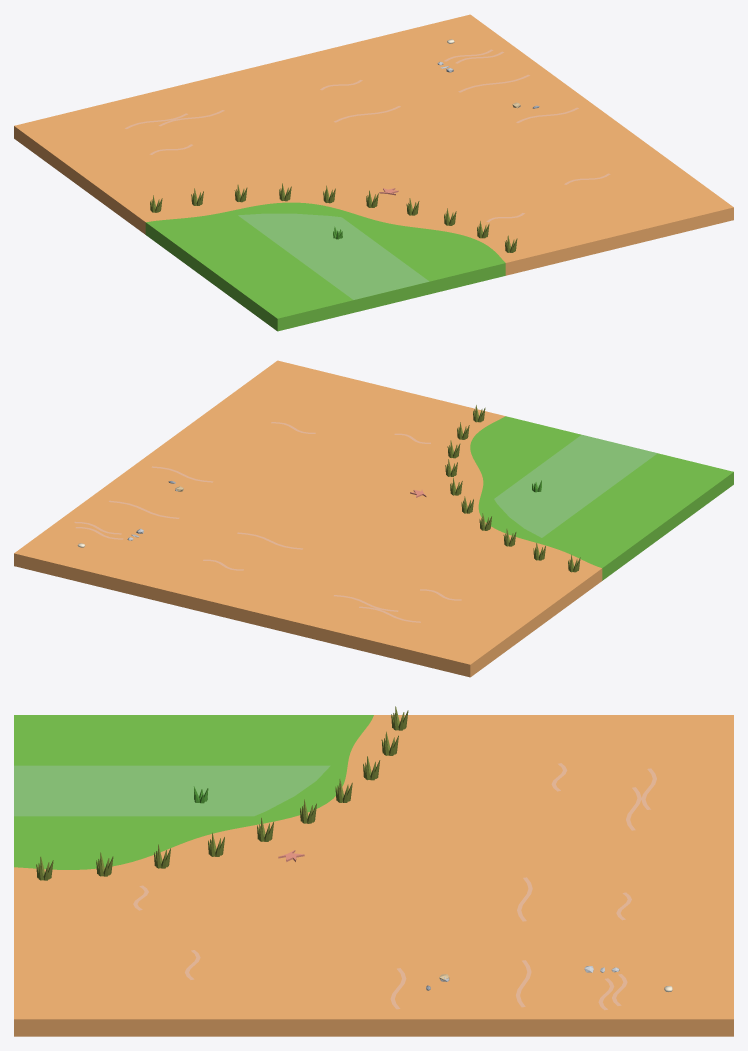
The model's file is grama_areia_canto_ext.glb.
The picture shows the model from 3 angles, top to bottom: view 1: azimuth 30°, elevation 25°; view 2: azimuth 150°, elevation 25°; view 3: azimuth 270°, elevation 25°; orthographic projection. The views are drawn at different scales.
Visible parts, largest first — view 1: grama_areia_canto_ext; view 2: grama_areia_canto_ext; view 3: grama_areia_canto_ext.
Boxes of the visible parts, x1,y1,x2,y2 form: grama_areia_canto_ext: (14, 14, 733, 331); grama_areia_canto_ext: (14, 360, 733, 677); grama_areia_canto_ext: (14, 706, 733, 1036).
Size of the model in its own units: 15 by 0.818 by 15.
1 material, 1 textured.
